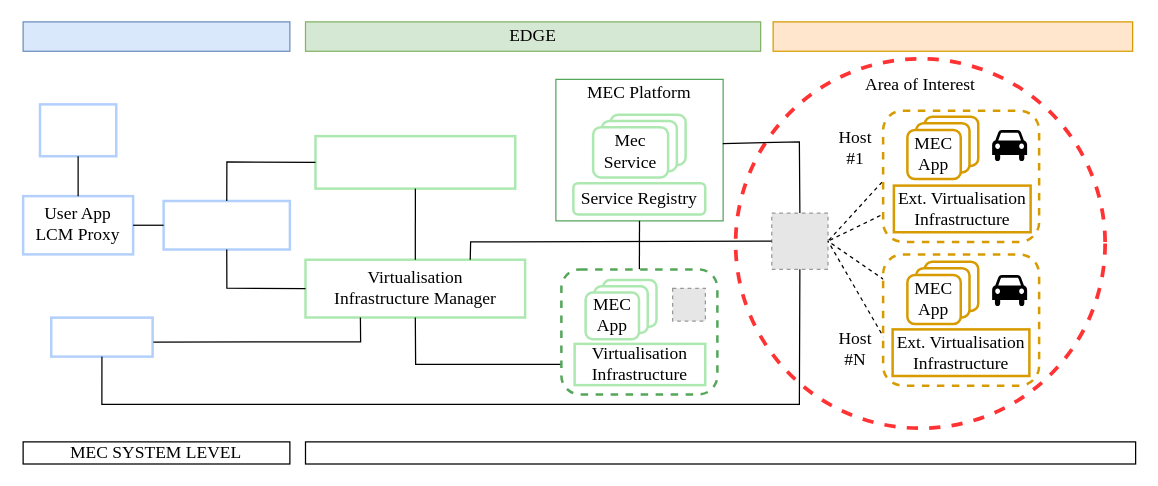
Some shapes in this 1158 by 486 pixel diagram are drawn without their labels. Grey dashed boxes stand in for pictures. Here are the shapes that lost their labels. From the top down, the centre of each, then its label:
At (x=156, y=36): "CORE NETWORK".
At (x=952, y=36): "FAR-EDGE".
At (x=77, y=129): "Device App".
At (x=415, y=161): "MEC Platform Manager".
At (x=226, y=224): "MEC Orchestrator".
At (x=101, y=336): "Broker".
At (x=720, y=452): "EXTENDED MEC HOST LEVEL".
